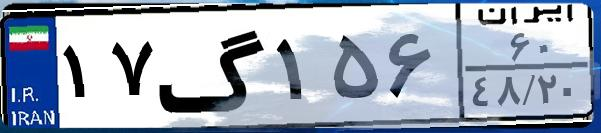0: (560, 70, 590, 125), (537, 27, 568, 80)
1: (270, 28, 330, 110), (57, 26, 110, 100)
2: (535, 70, 560, 125)
4: (470, 70, 495, 125)
5: (330, 28, 385, 110)
6: (385, 28, 445, 110), (508, 27, 537, 80)
7: (110, 28, 156, 98)
8: (495, 70, 520, 125)
گ: (156, 12, 270, 120)
